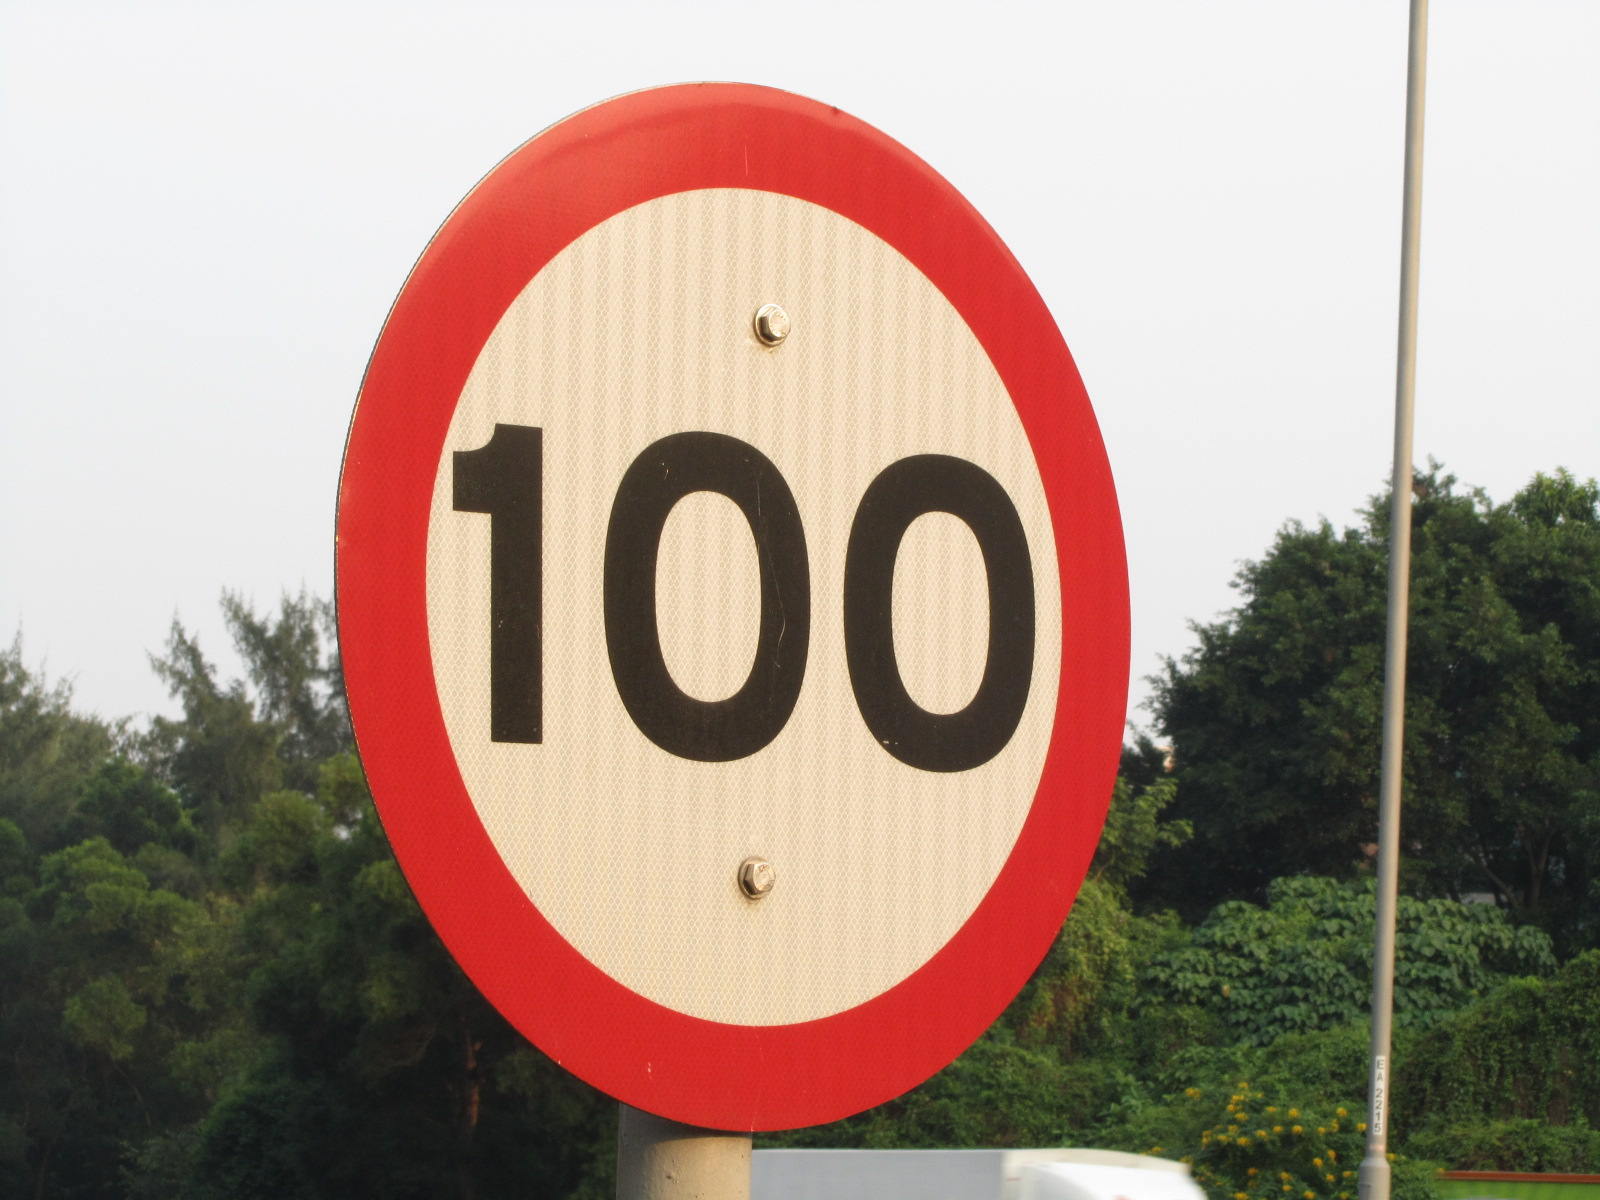Speed_limit_100km: (328, 78, 1134, 1137)
